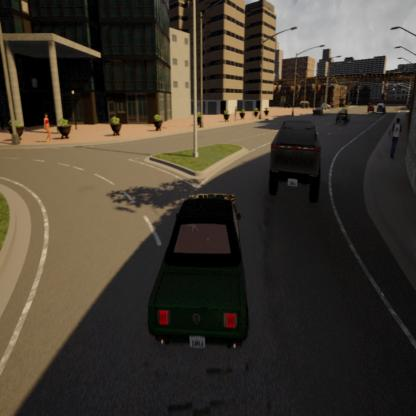Cars: (137, 172, 259, 376), (258, 102, 328, 238), (332, 105, 354, 129), (310, 97, 324, 120), (320, 95, 334, 113), (364, 100, 375, 118), (377, 96, 387, 114)
Pedestrian: (388, 112, 403, 170), (39, 110, 54, 152)
